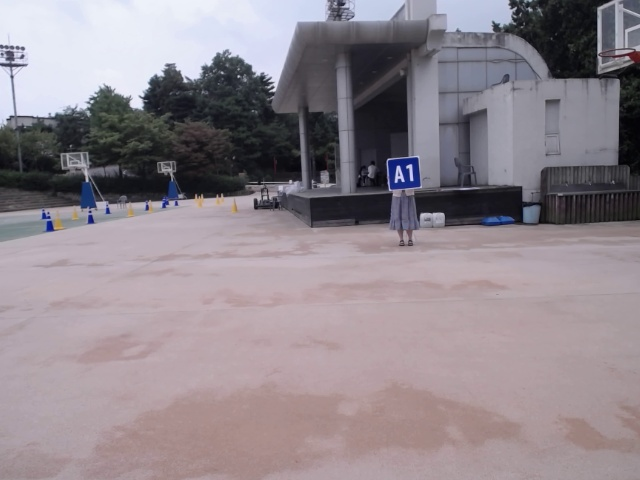delivery_a1: (387, 156, 422, 191)
